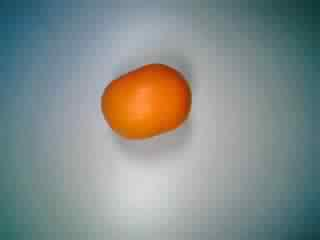orange: (96, 61, 197, 144)
